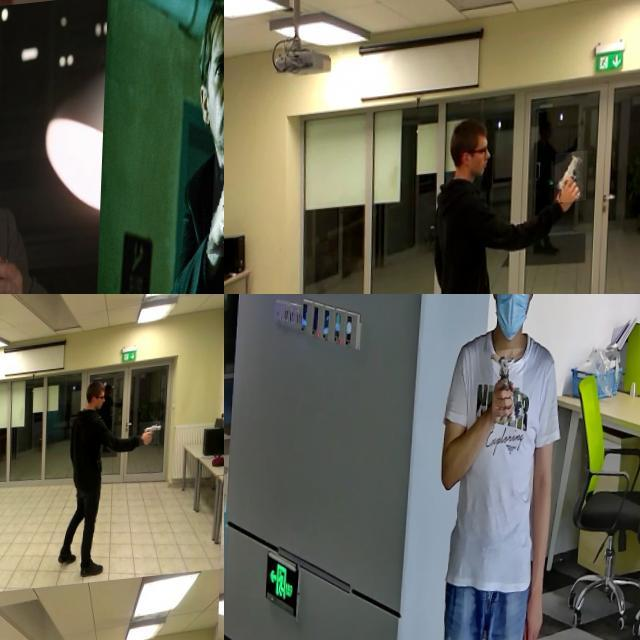gun-knife-thesis - v11 Yolov5 augmented: (0, 148, 43, 294), (494, 356, 526, 432), (0, 0, 55, 38), (556, 160, 590, 212), (141, 426, 161, 451)
